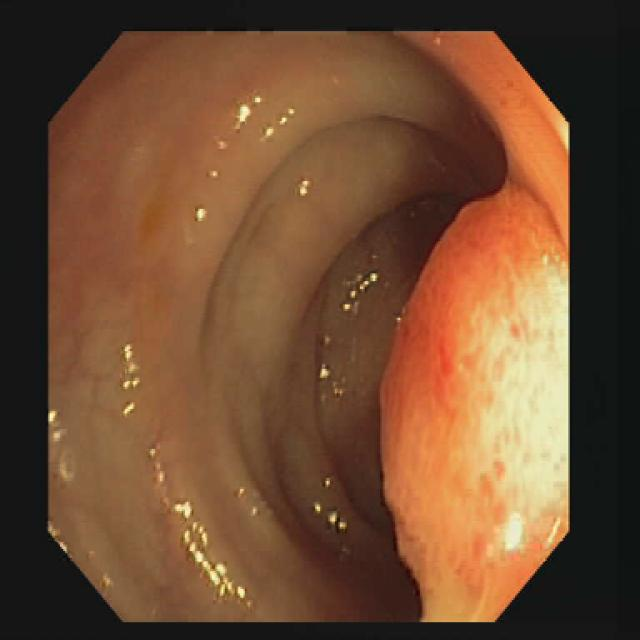tumor: (383, 47, 567, 620)
